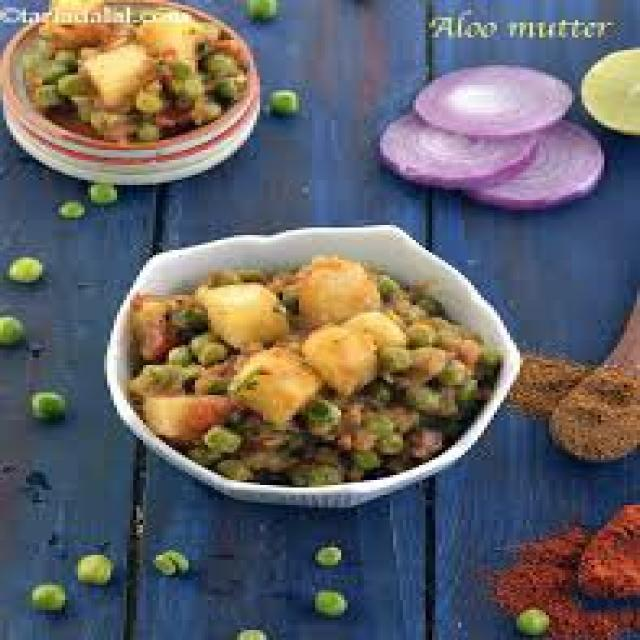aloo_matar: (140, 241, 456, 480)
